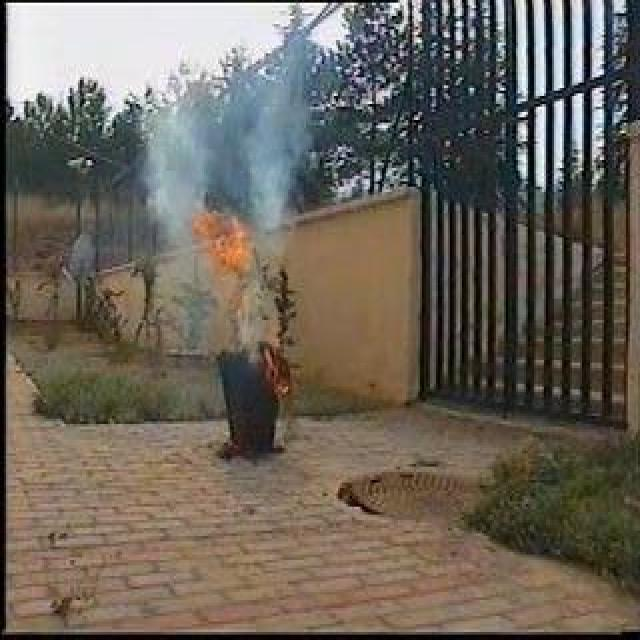fire: (194, 206, 250, 266)
smoke: (141, 70, 303, 206)
